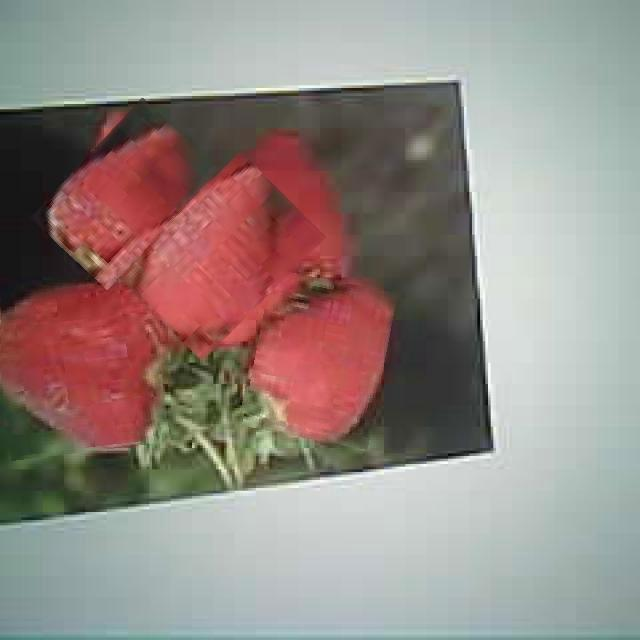strawberry: (139, 160, 305, 352), (0, 278, 165, 457), (50, 105, 198, 282), (245, 274, 391, 444)
